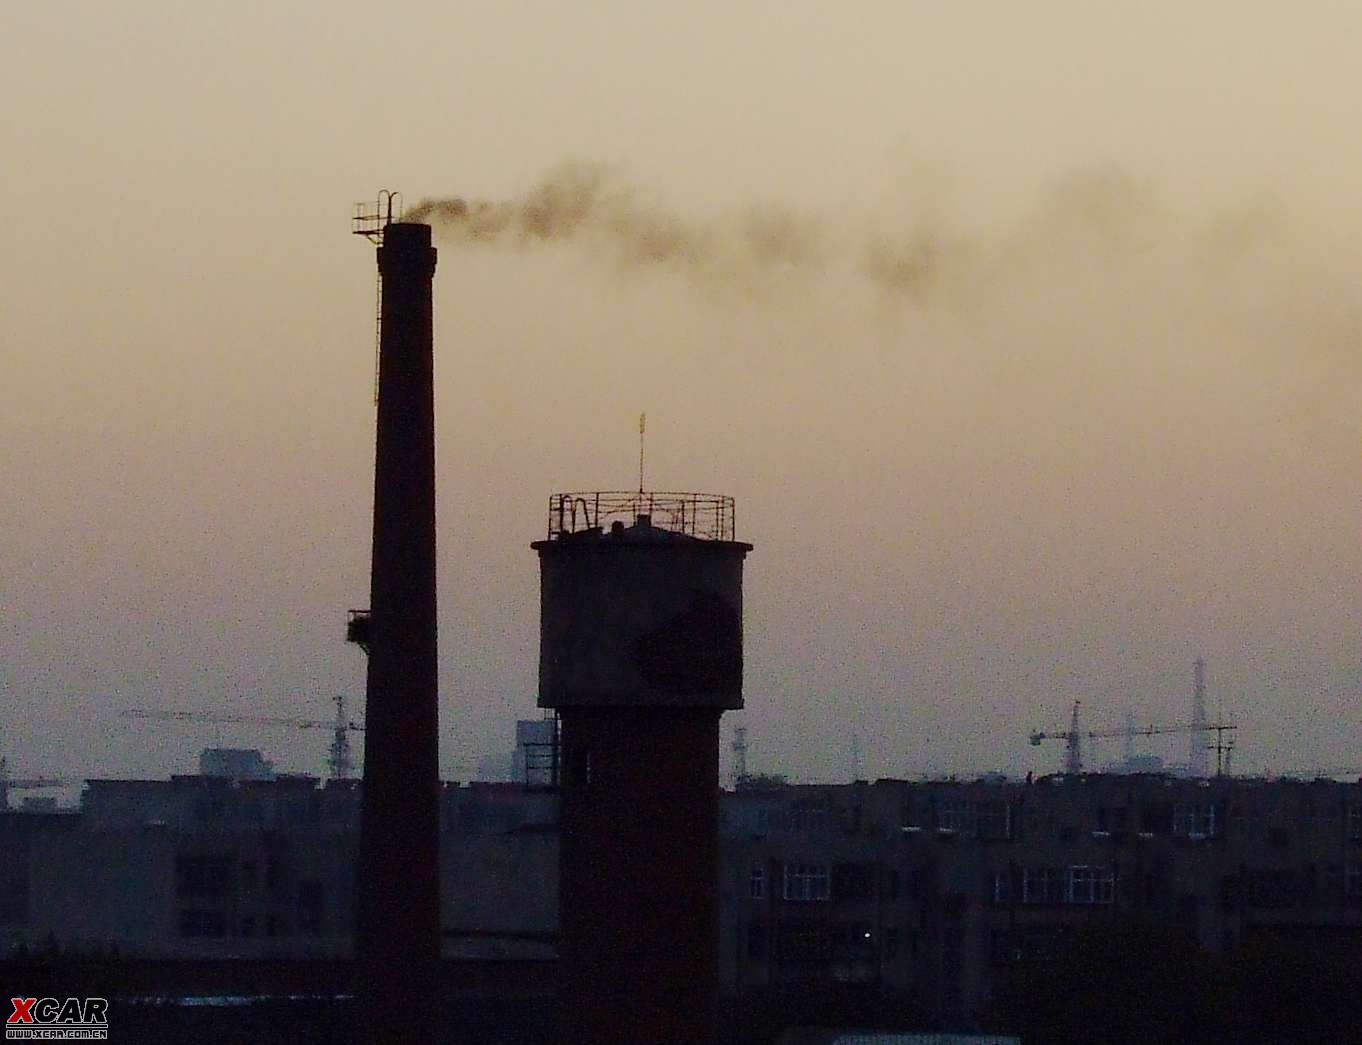dust: (375, 148, 727, 280)
